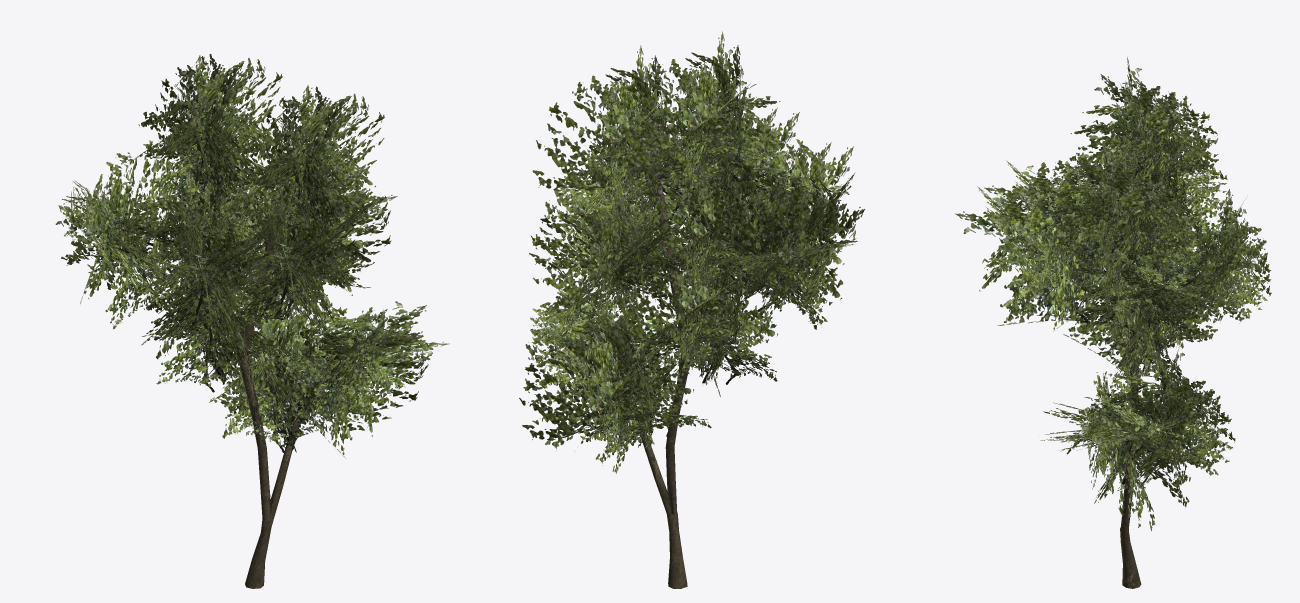
Rendered from TreeA-1.fbx.
3 views of the same model, side by side, from view 1: azimuth 30°, elevation 25°; view 2: azimuth 150°, elevation 25°; view 3: azimuth 270°, elevation 25° (orthographic). The views are drawn at different scales.
Visible parts, largest first — view 1: TreeA_1.001; view 2: TreeA_1.001; view 3: TreeA_1.001.
Boxes of the visible parts, x1,y1,x2,y2 form: TreeA_1.001: [55, 54, 449, 588]; TreeA_1.001: [519, 31, 865, 588]; TreeA_1.001: [955, 57, 1271, 588].
Bounding box in the file's own units: 1080 × 1432 × 869.
2 materials, 2 textured.
